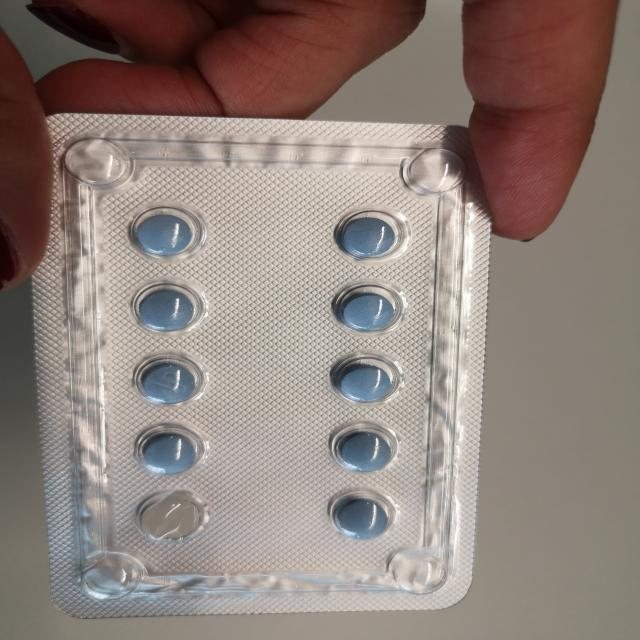Empty: (129, 486, 211, 545)
Pill: (328, 200, 425, 267), (117, 203, 215, 265), (328, 276, 414, 340), (122, 278, 212, 339), (127, 421, 217, 481), (123, 353, 220, 405), (318, 489, 404, 545), (322, 354, 407, 406), (321, 422, 402, 476)
